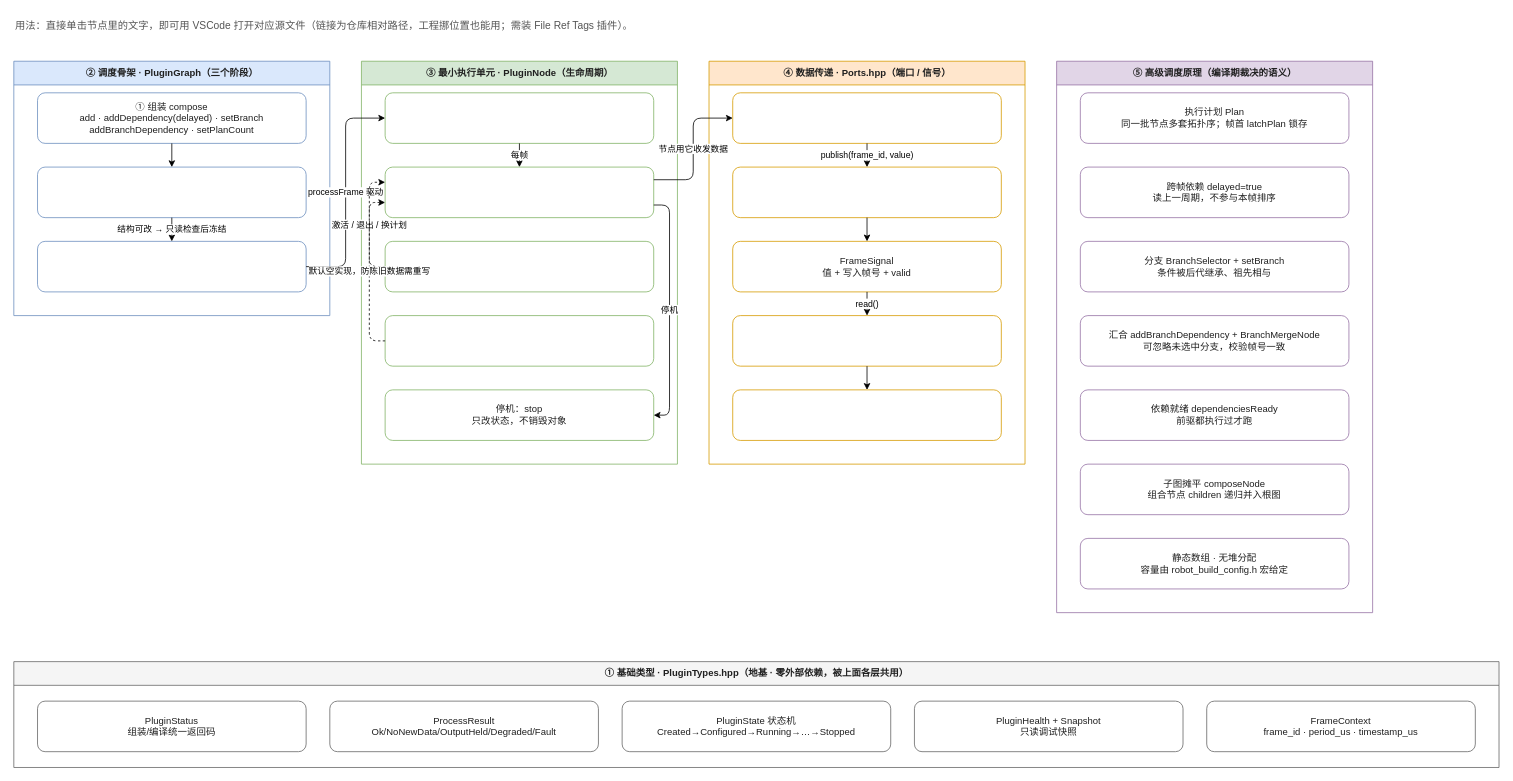
This 1513x781 diagram has some shape labels left out. The centre of each missing label's shape, as x and y in pixels:
InputPort 多读者：同一信号可多节点读: (x=866, y=340)
OutputPort 单写者：谁 bind 谁写: (x=866, y=192)
② 编译 compile validate 校验 → 拓扑排序 compilePlan → frozen 冻结（运行期不加锁）: (x=171, y=192)
③ 执行 processFrame 每 1 ms 一帧，按编译好的顺序依次跑节点: (x=171, y=266)
上游节点 process(): (x=866, y=117)
下游节点 process() validForFrame 按帧号校验，丢弃旧值: (x=866, y=414)
启动前各一次 compose → configure → start: (x=519, y=117)
帧边界通知 onEnter / onExit / onPlanChanged: (x=519, y=266)
每帧：process(FrameContext) 纯虚，必须实现: (x=519, y=192)
被跳过：onSkipped 令自身输出失效: (x=519, y=340)
